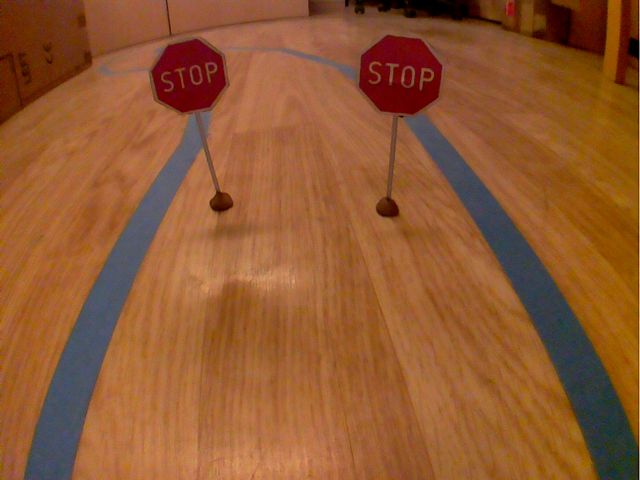Stop: (353, 26, 449, 122), (144, 30, 234, 119)
